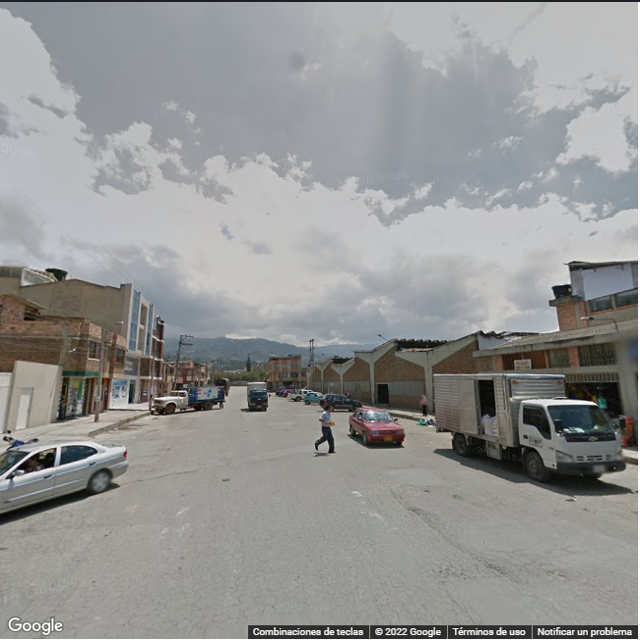D00: (385, 485, 513, 583), (441, 579, 475, 627)
D20: (122, 509, 428, 635)
